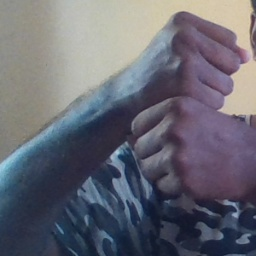G: (141, 9, 248, 203)
